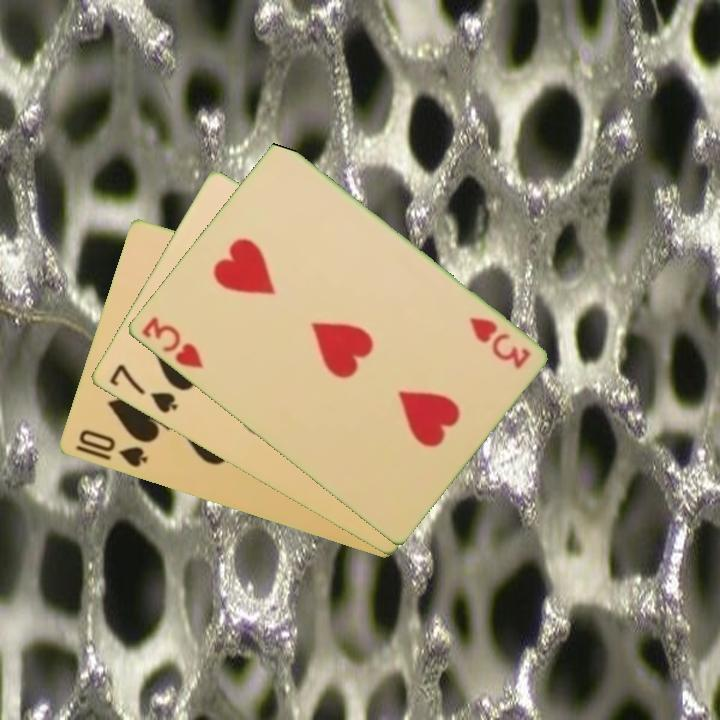10s: (75, 426, 150, 471)
3h: (137, 313, 206, 372), (465, 313, 533, 372)
7s: (105, 360, 181, 417)
